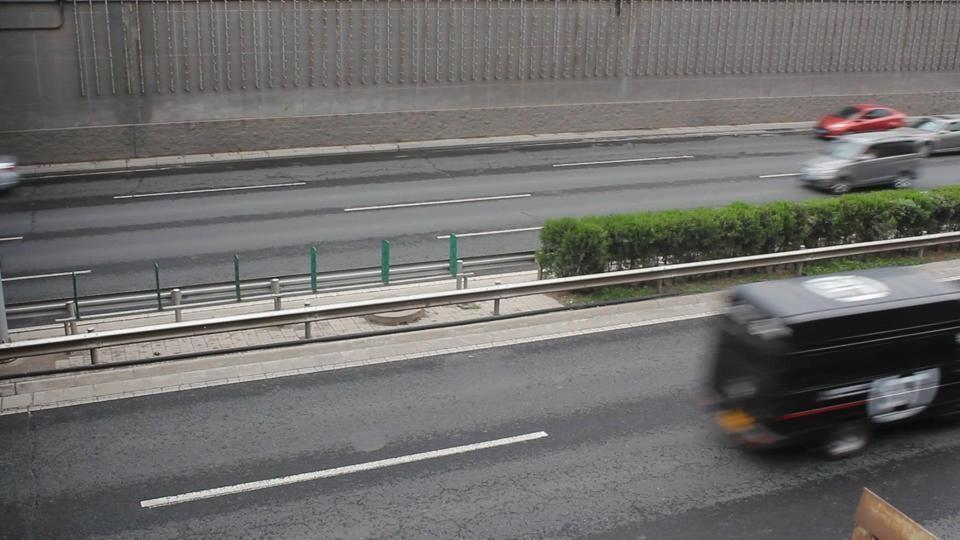car: (697, 264, 958, 459), (797, 129, 924, 196), (812, 103, 910, 140), (907, 116, 960, 158), (0, 153, 20, 193)
